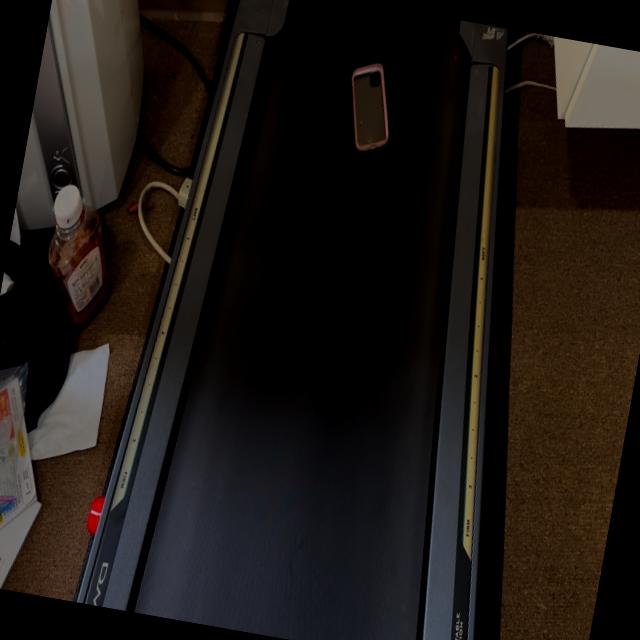Trash: (336, 59, 402, 154)
